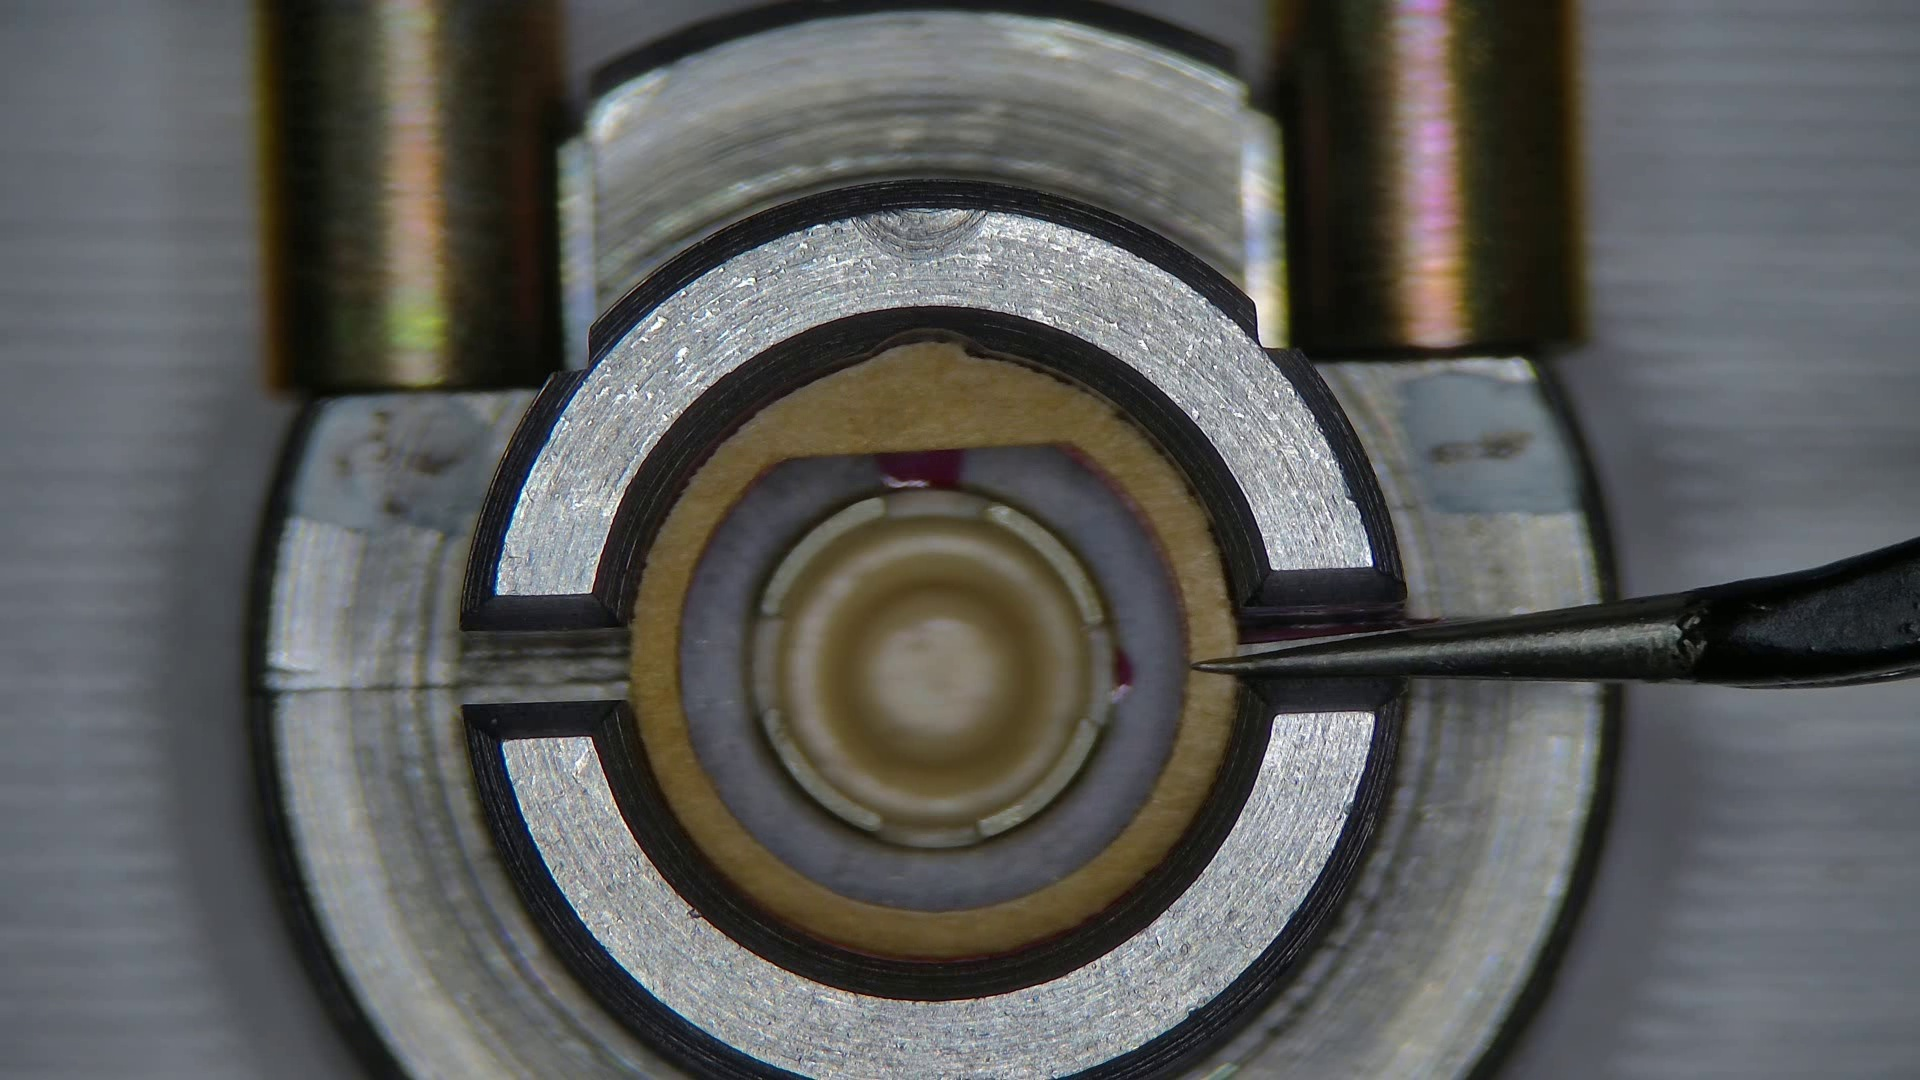YellowOring: (678, 447, 1184, 910)
redOring: (629, 342, 1237, 958)
